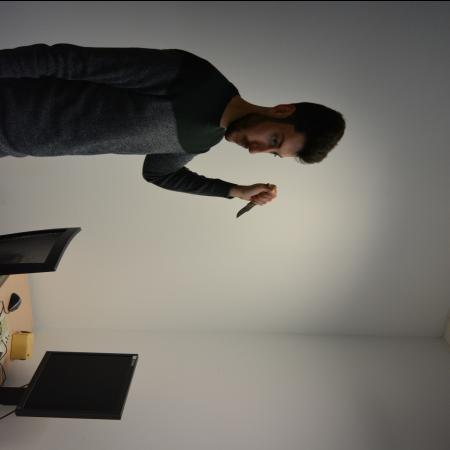long weapon: (234, 181, 274, 220)
